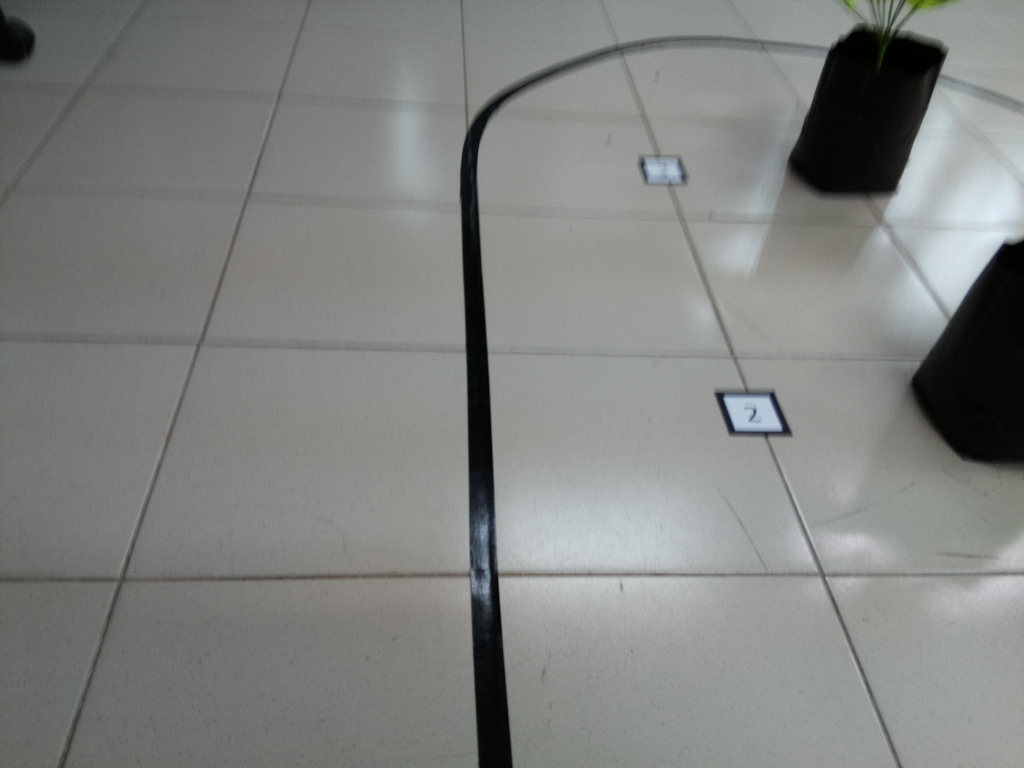forward: (447, 182, 527, 768)
